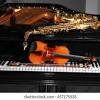Piano: (1, 39, 100, 79)
Saxophone: (20, 10, 100, 48)
Violin: (27, 40, 100, 67)
